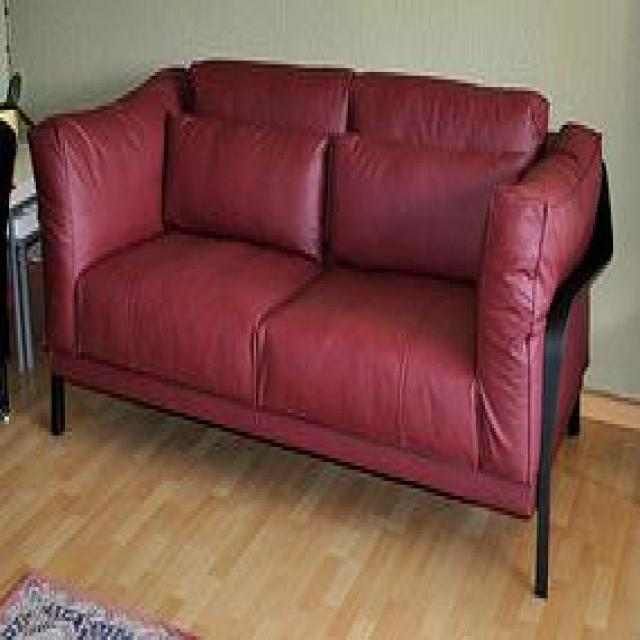sofa: (25, 56, 616, 603)
